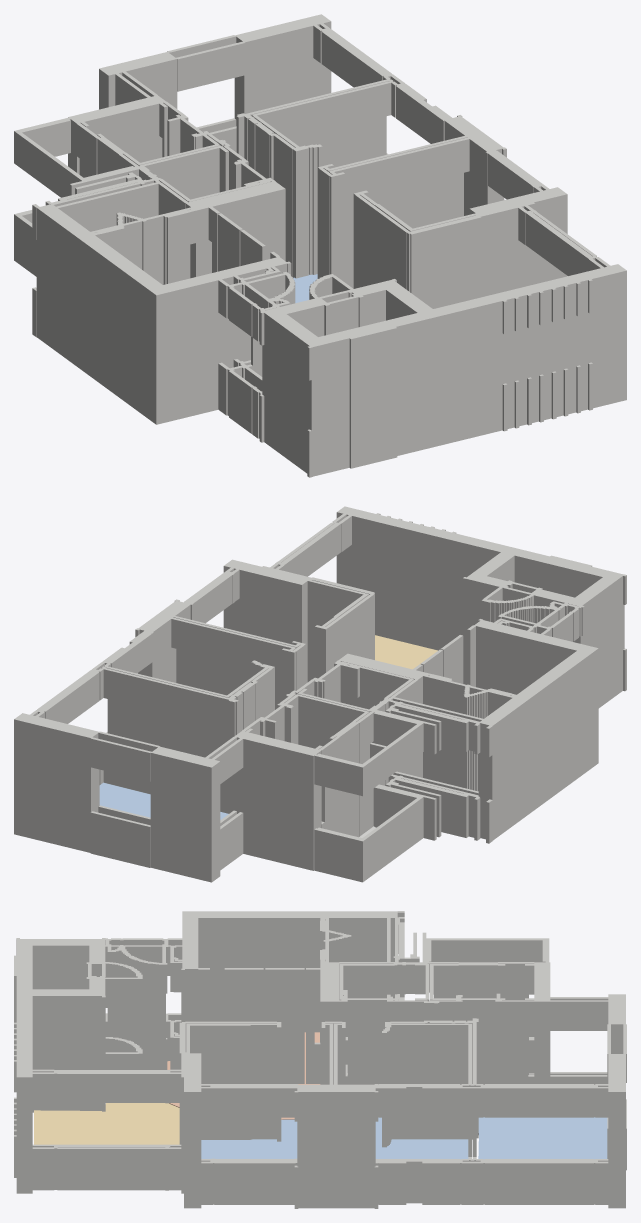
The picture shows the model from 3 angles, top to bottom: view 1: azimuth 30°, elevation 25°; view 2: azimuth 150°, elevation 25°; view 3: azimuth 270°, elevation 25°; orthographic projection. The views are drawn at different scales.
Parts seen in each view (by area): view 1: walls; view 2: walls, room:living:8, room:bedroom:0; view 3: walls, room:living:8, room:bedroom:0, room:bedroom:7, room:bedroom:3.
Boxes of the visible parts, x1,y1,x2,y2 form: walls: (14,14,626,477); walls: (14,506,626,882); room:living:8: (375,635,437,669); room:bedroom:0: (99,782,228,819); walls: (14,911,626,1208); room:living:8: (34,1103,179,1144); room:bedroom:0: (478,1117,607,1159); room:bedroom:7: (201,1119,297,1158); room:bedroom:3: (375,1117,468,1159).
Bounding box in the file's own units: 9.35 × 2.8 × 13.36.
